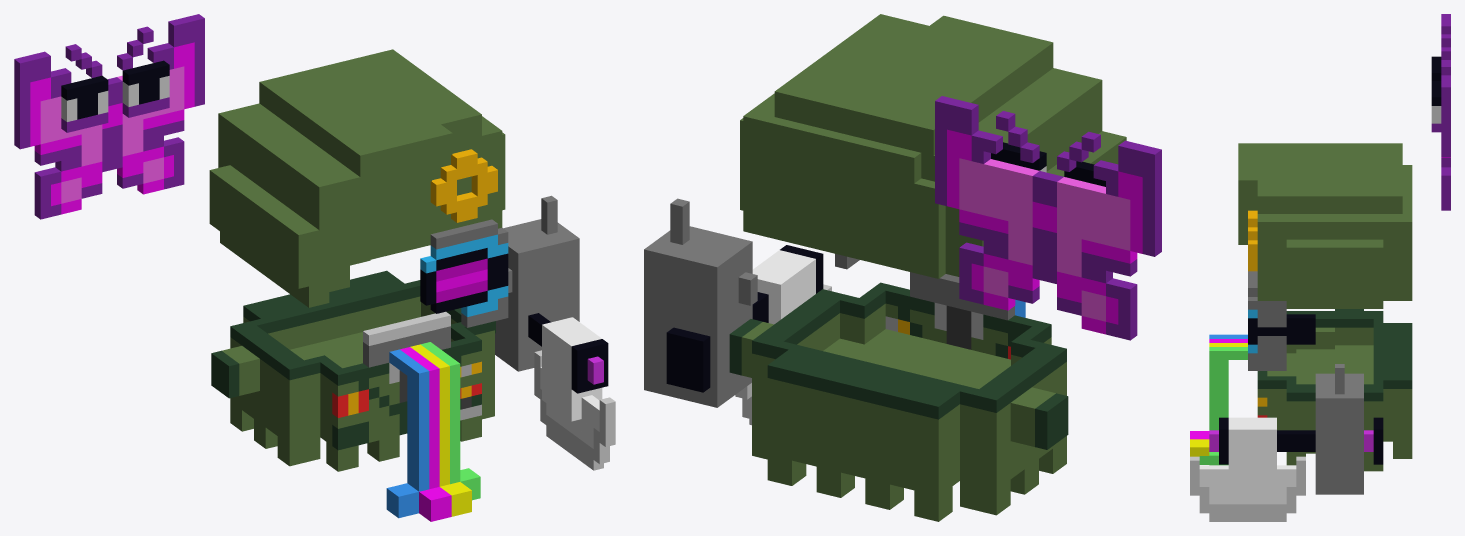
Rendered from Full wearables.fbx.
The picture shows the model from 3 angles, left to right: view 1: azimuth 30°, elevation 25°; view 2: azimuth 150°, elevation 25°; view 3: azimuth 270°, elevation 25°; orthographic projection. The views are drawn at different scales.
Visible parts, largest first — view 1: sergeant hat, sergeant suit, sus butterfly, rainbow vomit, portal mage axe, walkie, cyborg eye; view 2: sergeant suit, sergeant hat, sus butterfly, walkie, portal mage axe, rainbow vomit; view 3: sergeant hat, sergeant suit, portal mage axe, walkie, cyborg eye, rainbow vomit, sus butterfly.
Part boxes in pixels (<box>): sergeant hat: <box>209,49,505,307</box>; sergeant suit: <box>211,270,495,471</box>; sus butterfly: <box>14,14,204,219</box>; rainbow vomit: <box>363,311,480,521</box>; portal mage axe: <box>528,313,615,470</box>; walkie: <box>495,195,579,371</box>; cyborg eye: <box>420,219,508,327</box>; sergeant suit: <box>729,282,1068,521</box>; sergeant hat: <box>740,14,1126,278</box>; sus butterfly: <box>935,96,1161,340</box>; walkie: <box>644,198,757,407</box>; portal mage axe: <box>666,245,831,425</box>; rainbow vomit: <box>910,272,1025,320</box>; sergeant hat: <box>1238,143,1412,308</box>; sergeant suit: <box>1257,309,1412,471</box>; portal mage axe: <box>1190,417,1383,521</box>; walkie: <box>1315,364,1363,494</box>; cyborg eye: <box>1248,271,1315,370</box>; rainbow vomit: <box>1190,334,1247,465</box>; sus butterfly: <box>1431,14,1450,210</box>.
Size of the model in its own units: 4.7 by 3.8 by 2.7.
7 materials, 6 textured.
